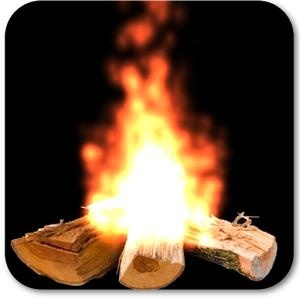fire: (78, 39, 234, 250), (112, 3, 163, 51)
